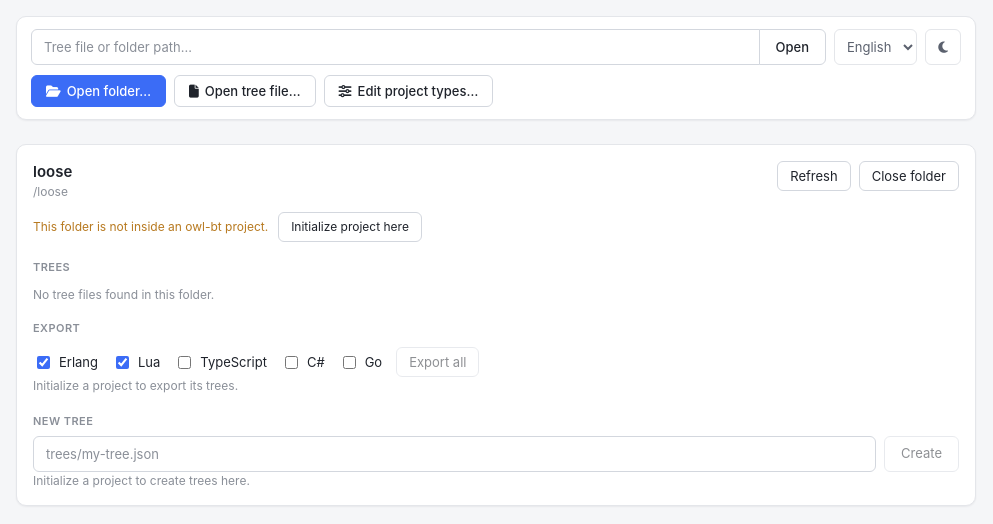
Test case: Home › workspace panel › initializes a project in a folder outside any project
Click the button "Initialize project here" at (350, 227), box left=278, top=212, right=422, bottom=242
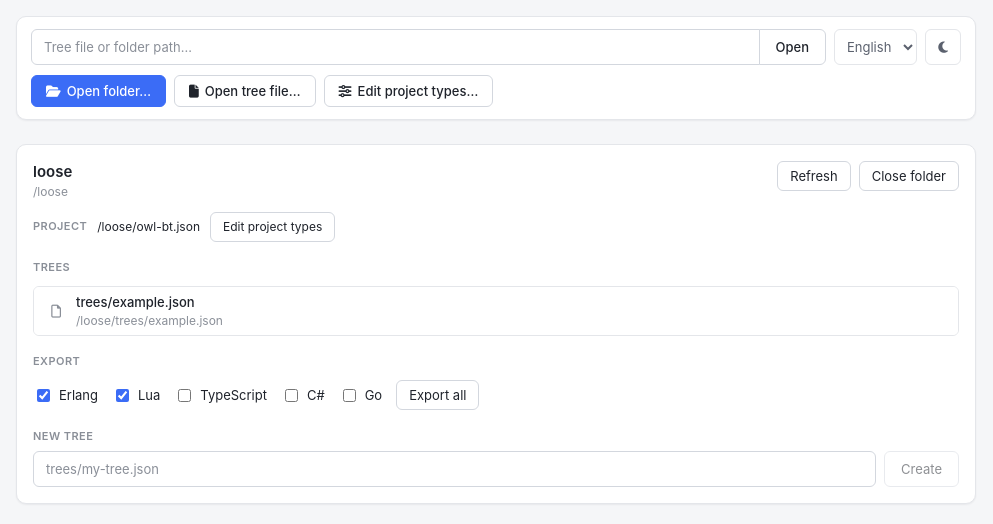
Now the text "trees/example.json" is shown, box left=76, top=294, right=195, bottom=310
Now the text "This folder is not inside an owl-bt project." is gone
